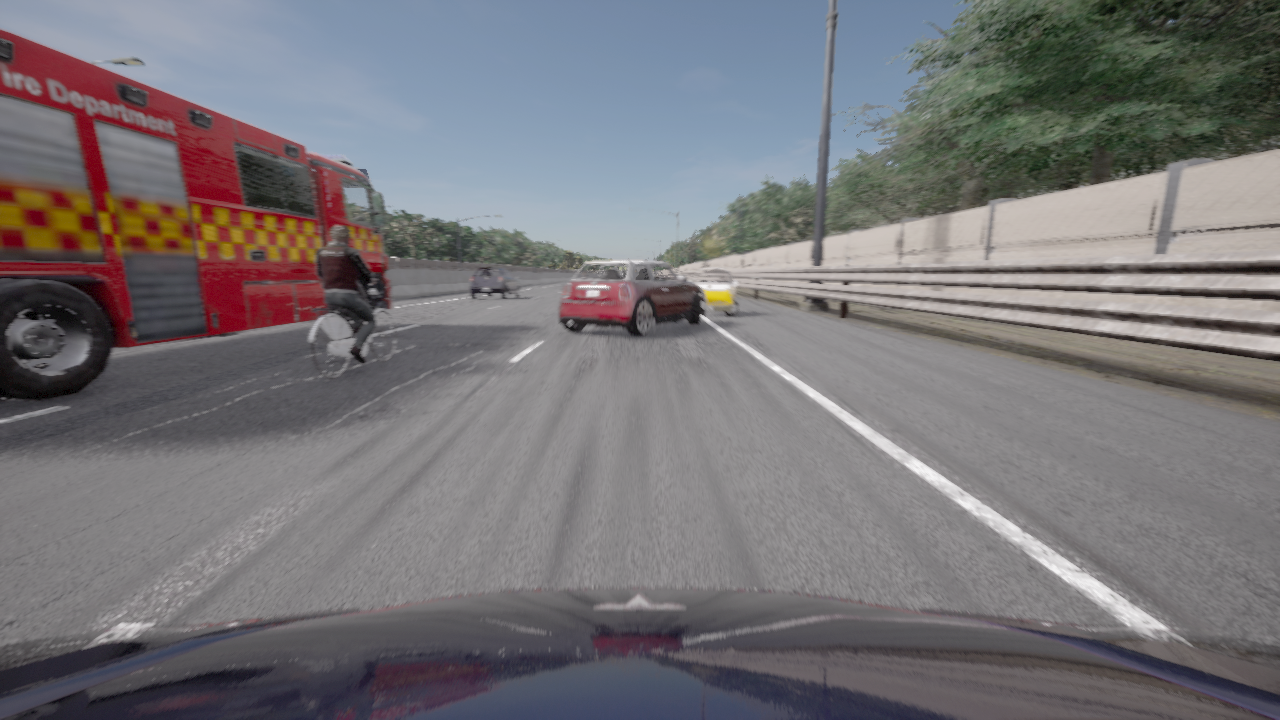cyclist: (0, 588, 1279, 719), (0, 27, 391, 400), (558, 260, 705, 336), (309, 280, 396, 377), (688, 268, 739, 316), (470, 267, 520, 298)
